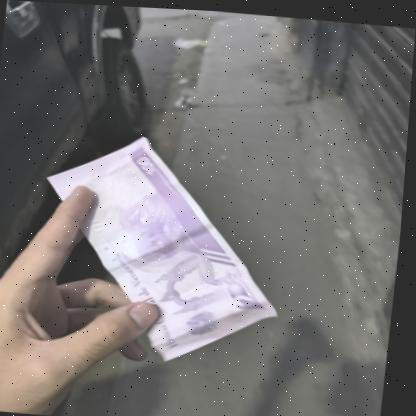one_hundred-back-vef: (31, 127, 298, 369)
